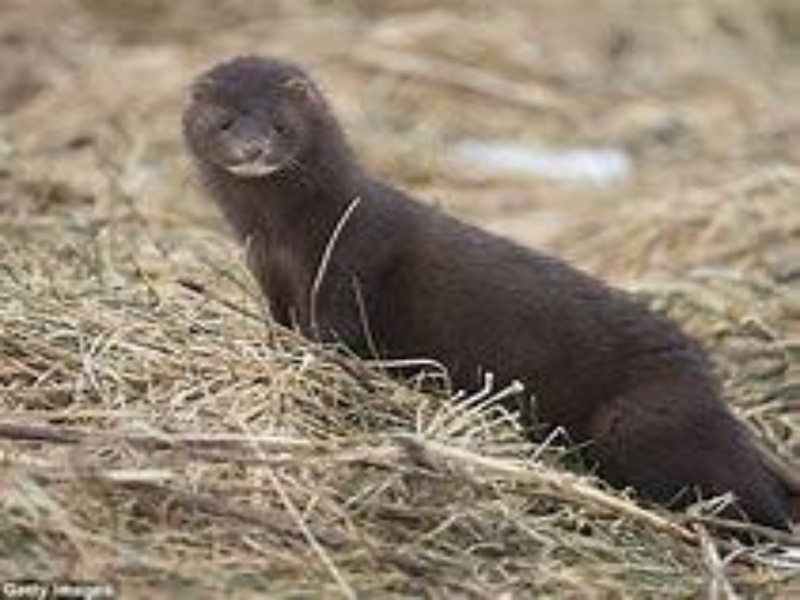minkish: (184, 54, 790, 540)
